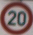20 km speed: (1, 1, 33, 34)
